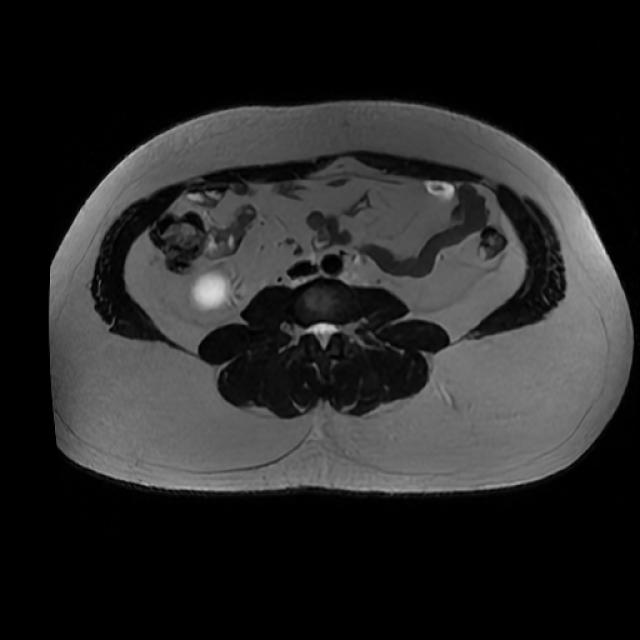sag: (188, 269, 231, 310)
